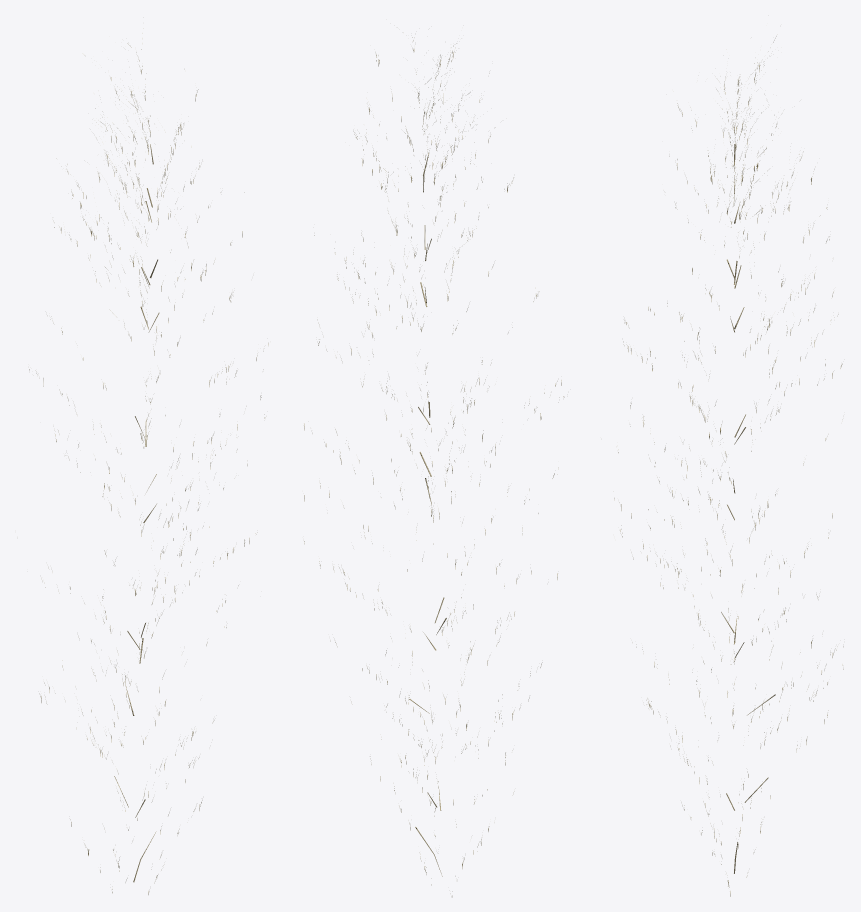
The model's file is saccharum-macro-lite.glb.
The picture shows the model from 3 angles, left to right: view 1: azimuth 30°, elevation 25°; view 2: azimuth 150°, elevation 25°; view 3: azimuth 270°, elevation 25°; orthographic projection. The views are drawn at different scales.
Visible parts, largest first — view 1: silky-hairs, spikelet, panicle; view 2: silky-hairs, spikelet, panicle; view 3: silky-hairs, spikelet, panicle.
Part boxes in pixels (x1,y1,x2,y2): silky-hairs: (29, 28, 268, 893); spikelet: (41, 70, 268, 894); panicle: (114, 144, 159, 882); silky-hairs: (303, 32, 564, 897); spikelet: (304, 49, 563, 869); panicle: (409, 111, 446, 876); silky-hairs: (613, 34, 843, 887); spikelet: (620, 65, 832, 896); panicle: (721, 144, 775, 873).
Size of the model in its own units: 0.1016 by 0.3751 by 0.0973.
